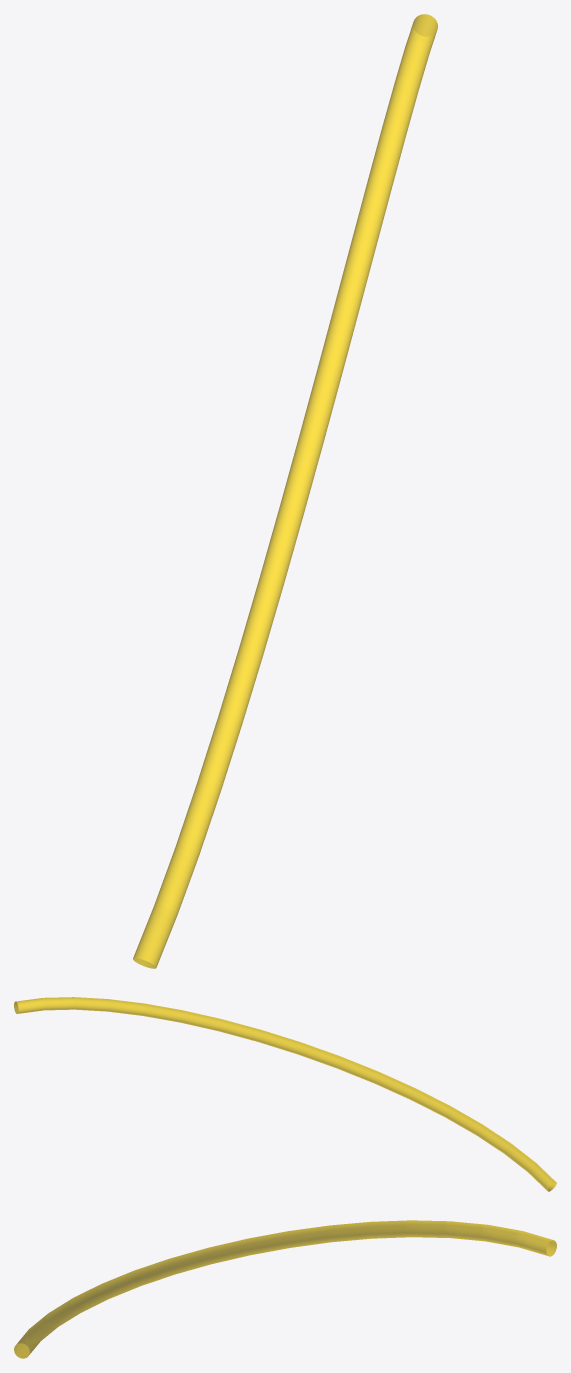
The model's file is Event_100608114_track_8.fbx.
3 renders of one model, top to bottom at view 1: azimuth 30°, elevation 25°; view 2: azimuth 150°, elevation 25°; view 3: azimuth 270°, elevation 25°, orthographic. The views are drawn at different scales.
Parts seen in each view (by area): view 1: Model; view 2: Model; view 3: Model.
Part boxes in pixels (bbox=[...]): Model: bbox=[133, 14, 437, 968]; Model: bbox=[14, 997, 556, 1191]; Model: bbox=[14, 1220, 556, 1358].
Size of the model in its own units: 1.27 by 0.8763 by 1.28.
